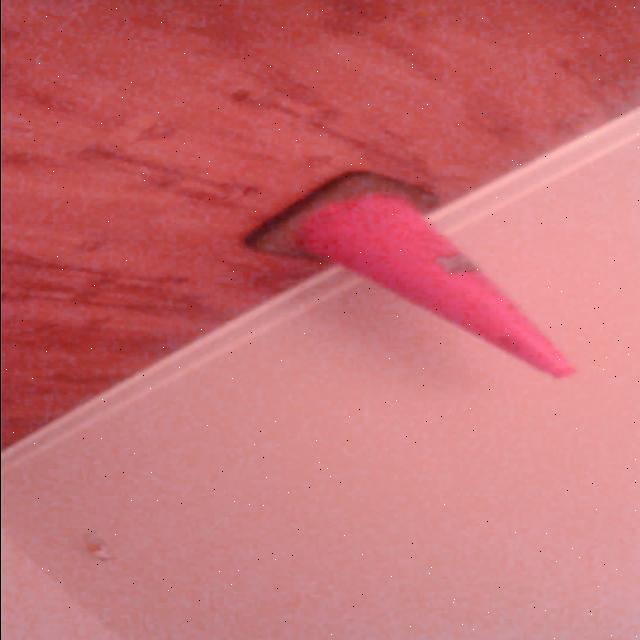traffic cone: (238, 171, 582, 387)
